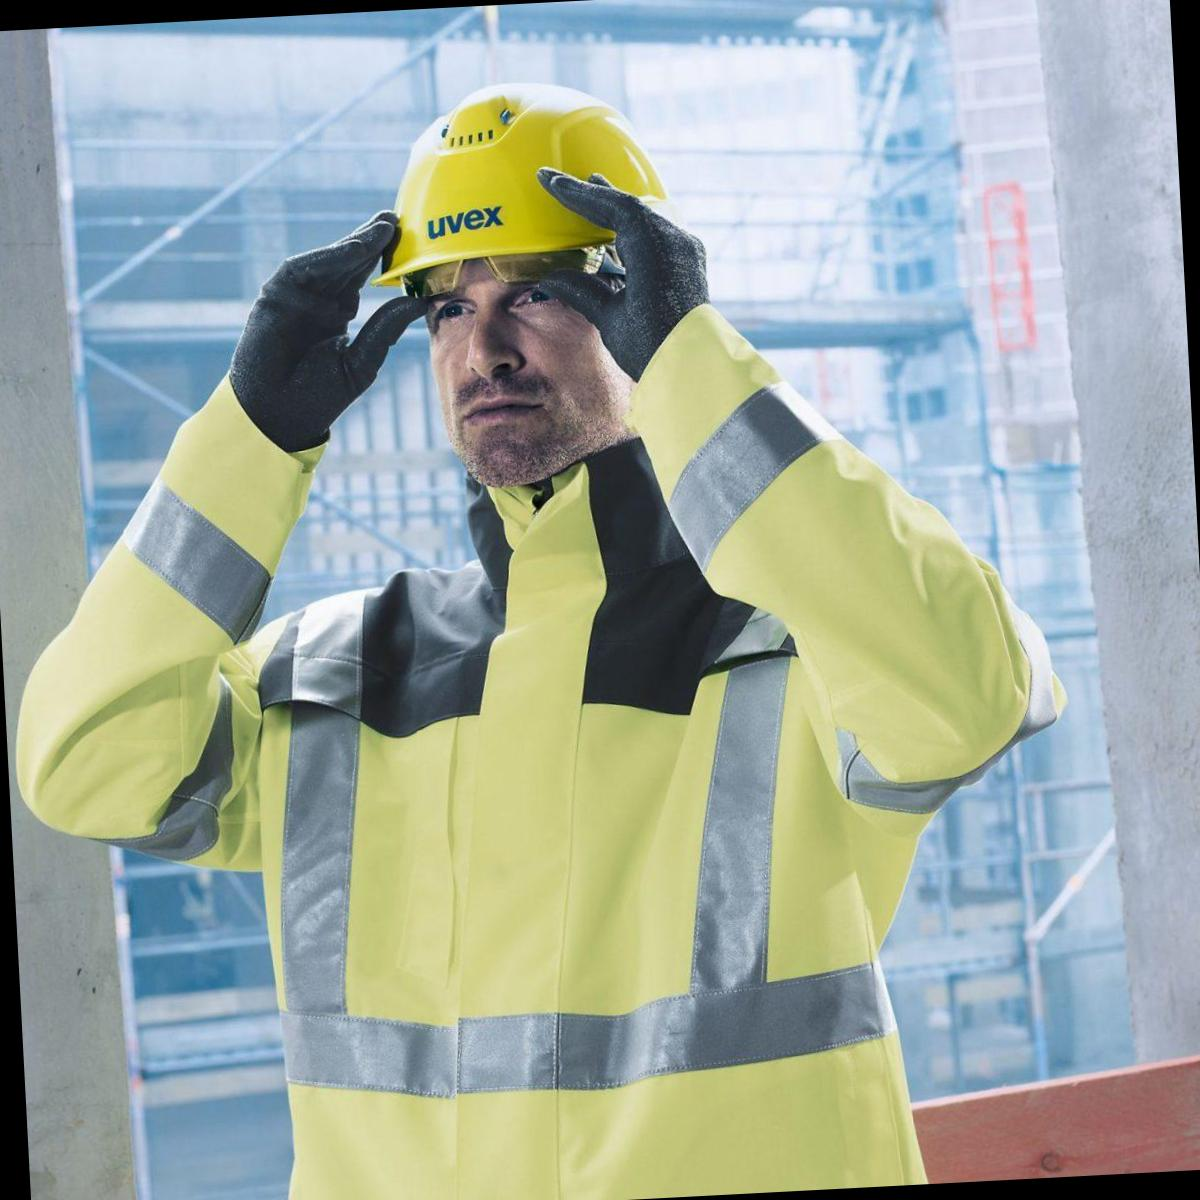Helmet: (338, 89, 686, 311)
Vest: (157, 430, 1076, 1198)
